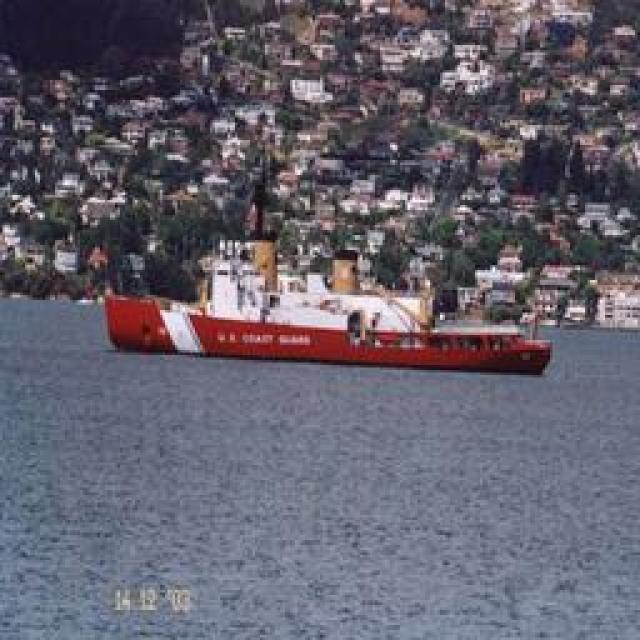ship2: (106, 230, 551, 375)
